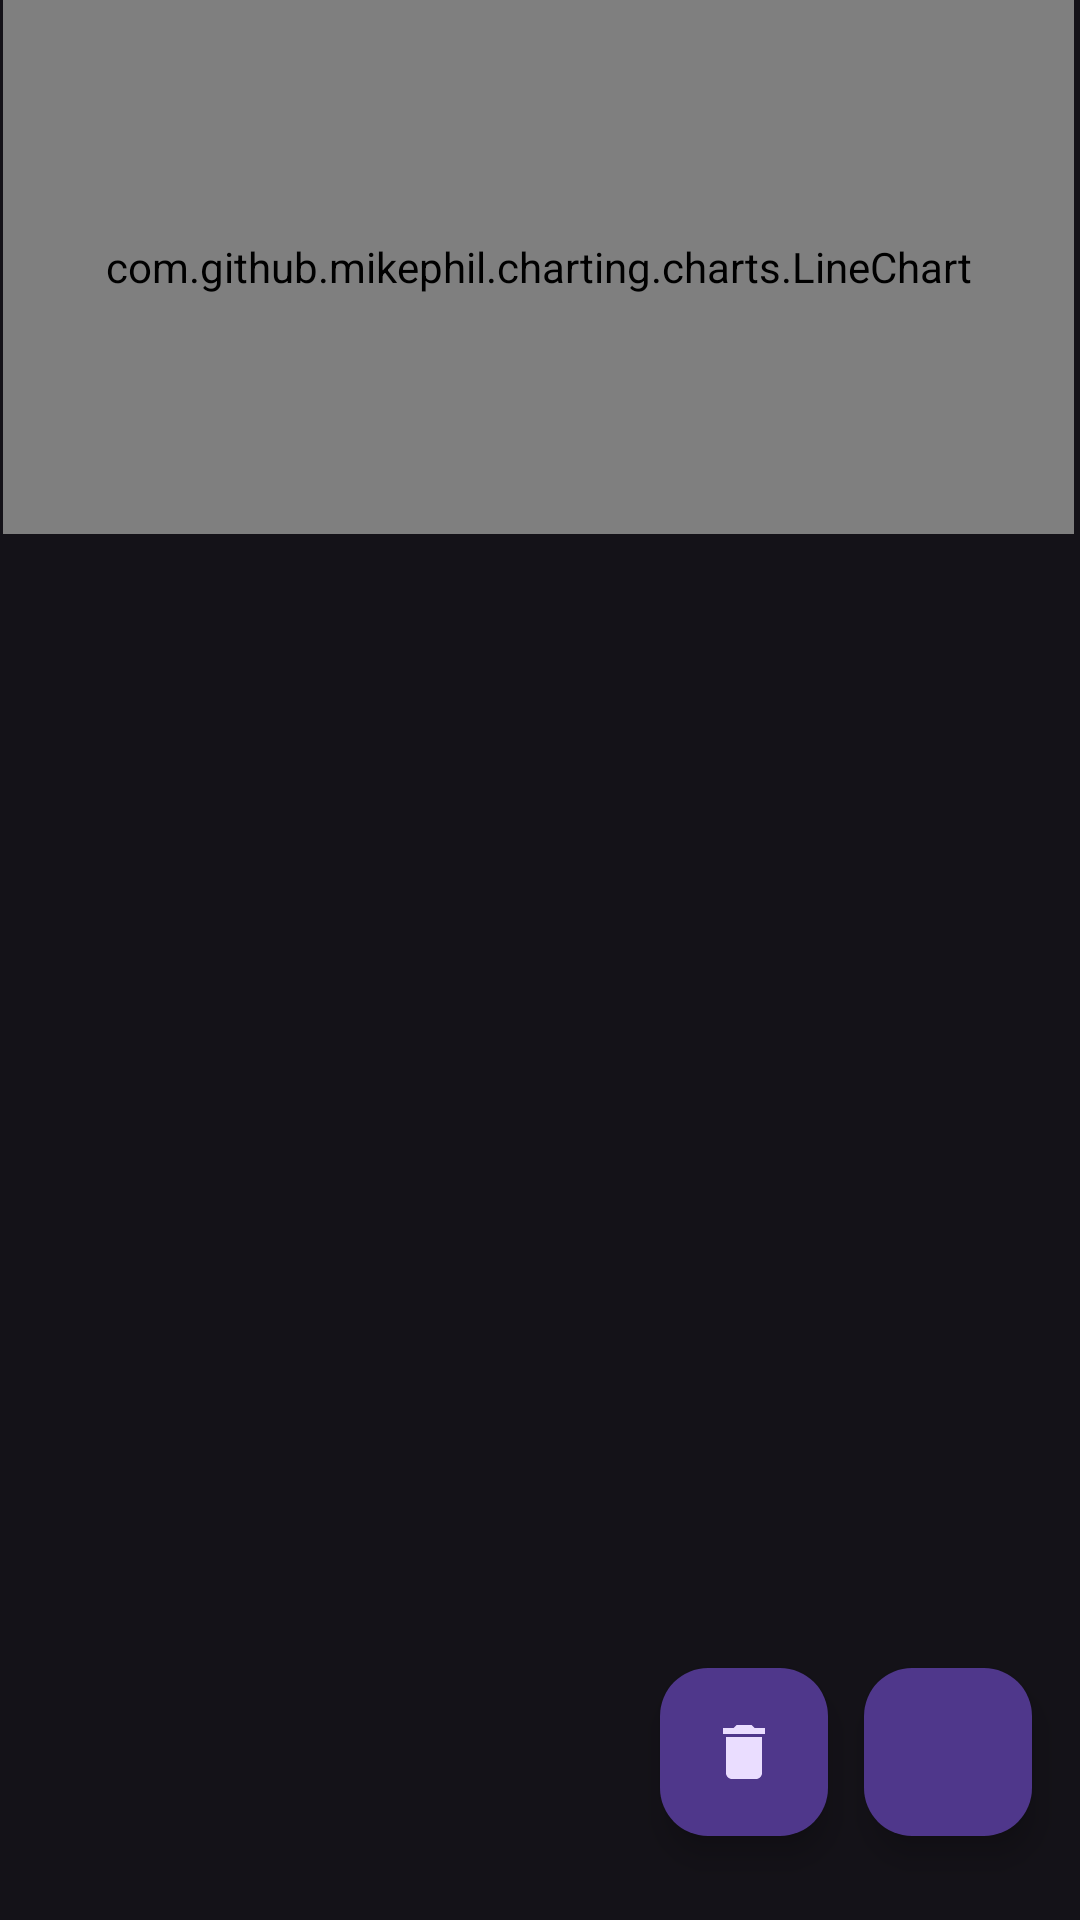

Named icons in this screenshot (1080×1920) and their centers, (x=x, y=y):
delete: (x=744, y=1752)
